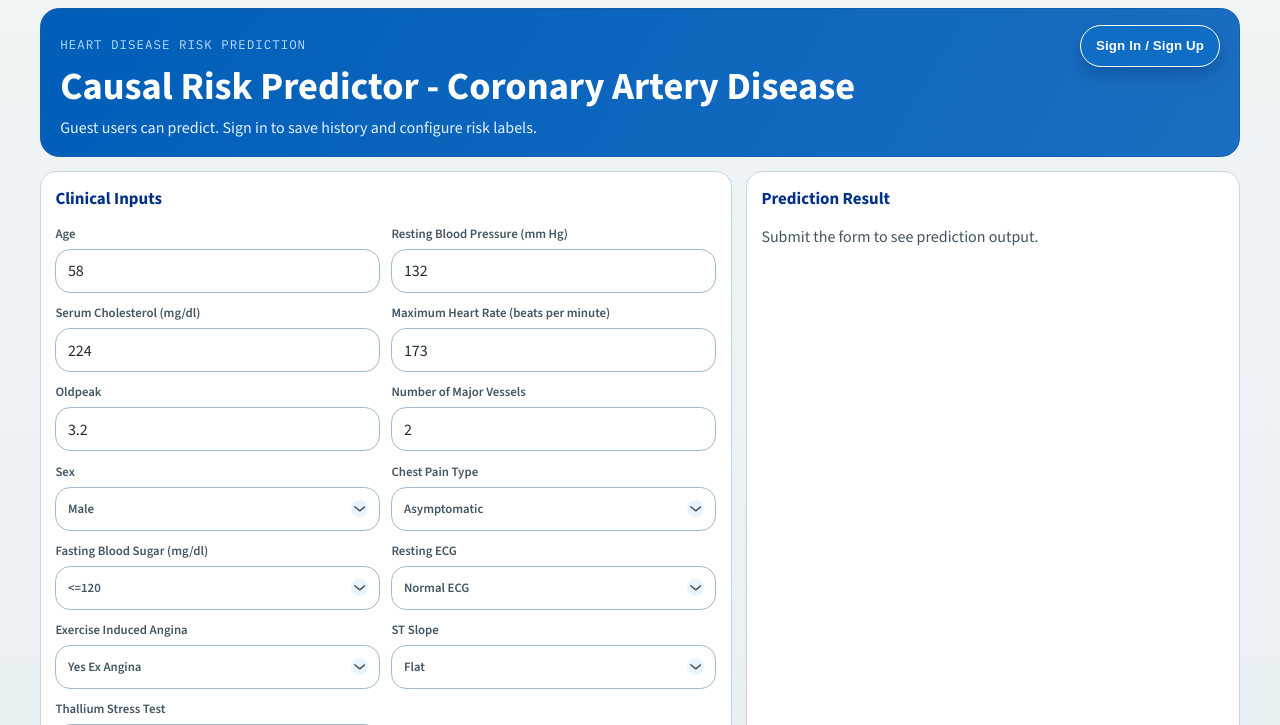
Test: form validation rejects out-of-range value for Resting Blood Pressure (mm Hg)
Replace the text in the number field labelled "Resting Blood Pressure (mm Hg)" with "49": (554, 271) [391,249,716,293]
(page scrolled)
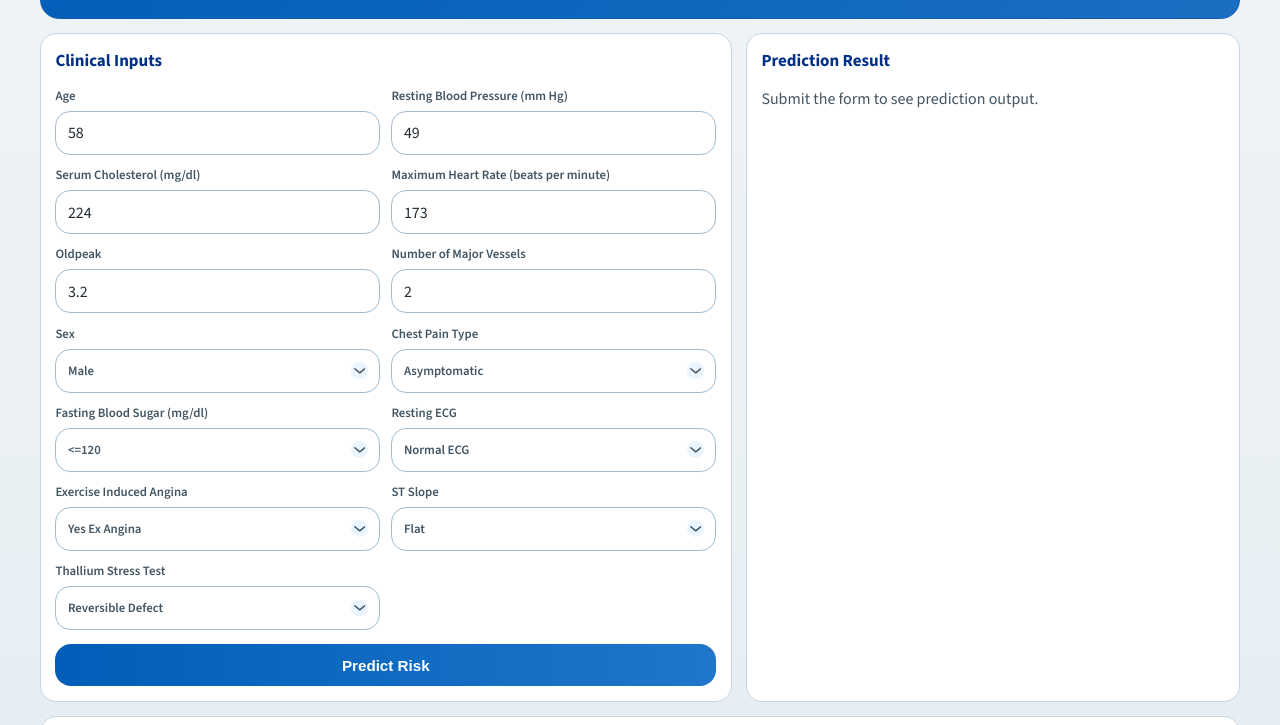
Submit the form named "Predict Risk", box [55,87,716,686]
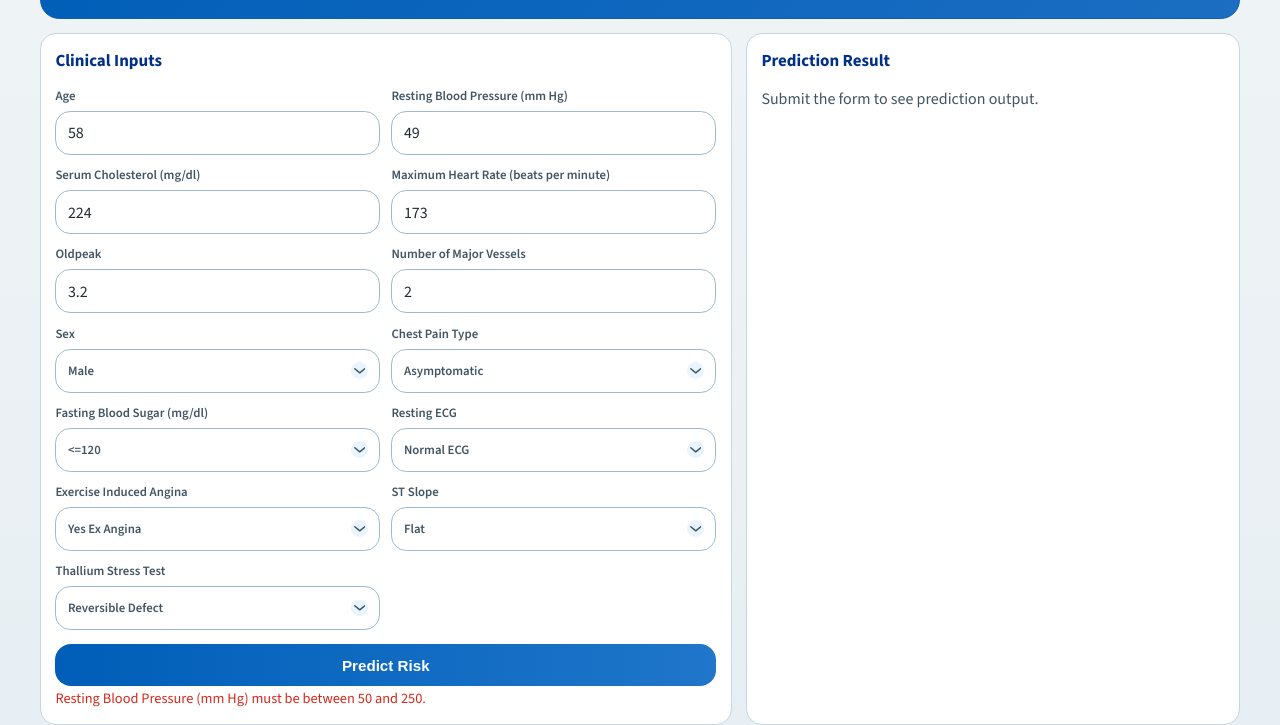
Now the text "Resting Blood Pressure (mm Hg) must be between 50 and 250." is shown, box [55,689,426,708]
